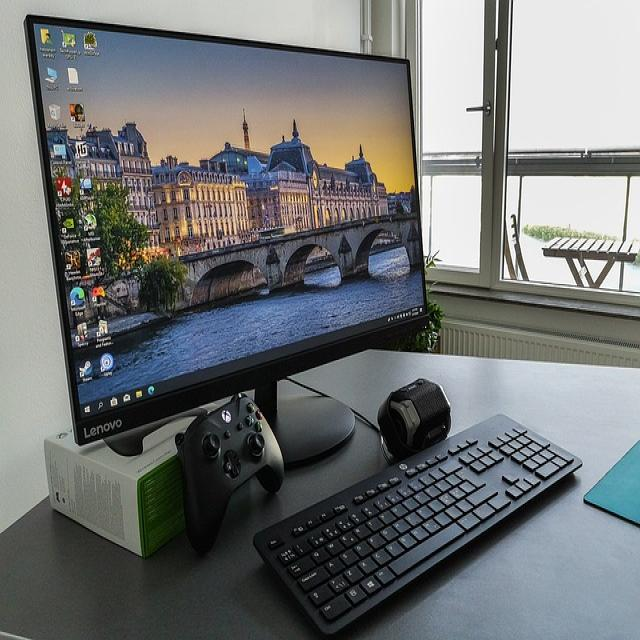monitor: (20, 8, 434, 475)
